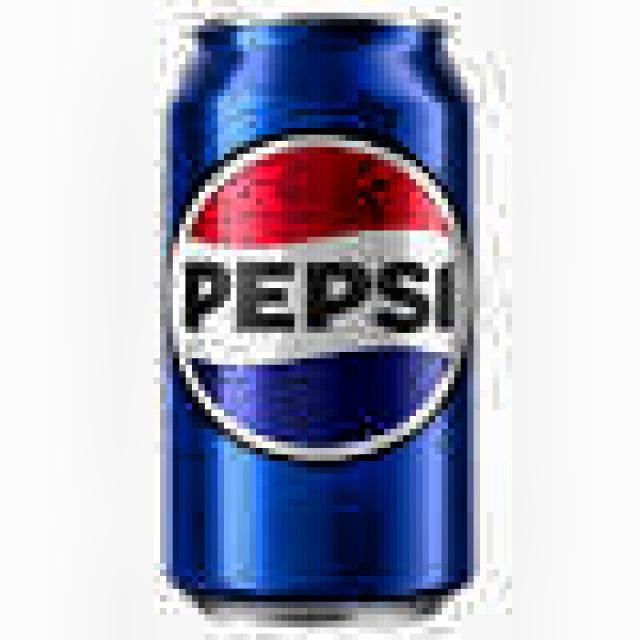can: (154, 0, 480, 627)
